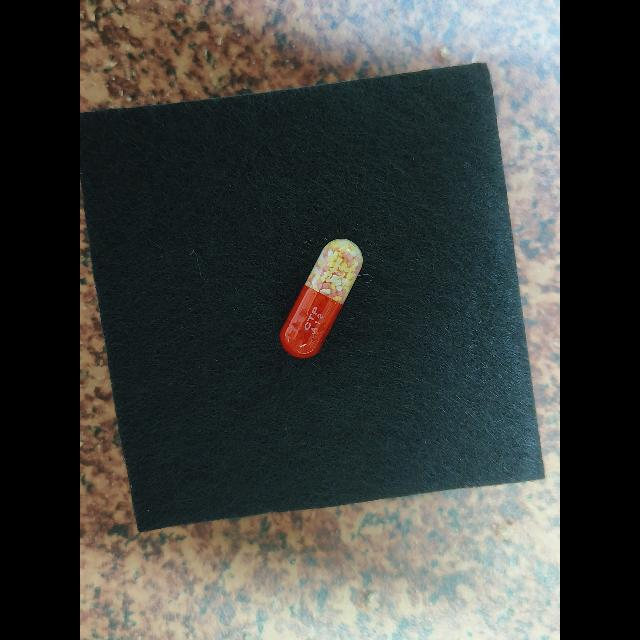Intact Capsule: (280, 239, 363, 358)
